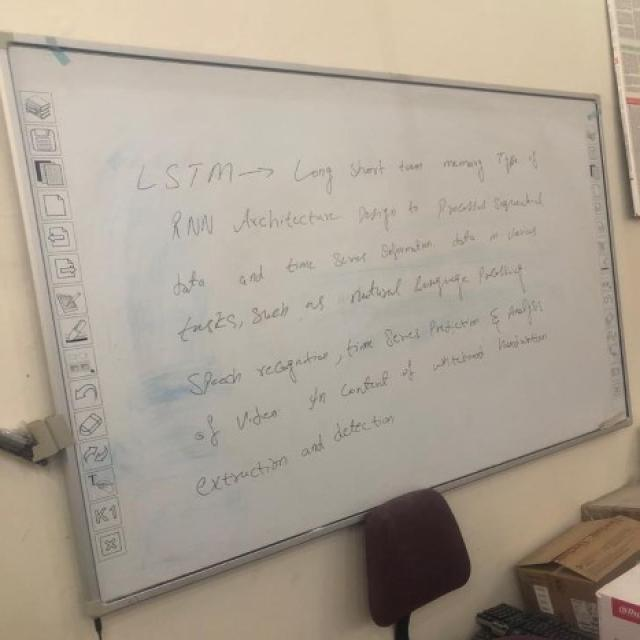White-board: (2, 40, 635, 618)
